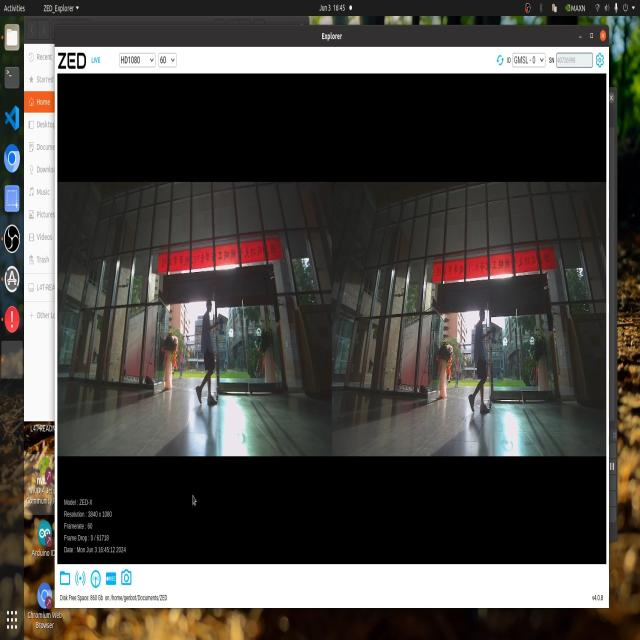blue: (487, 322, 499, 350), (213, 314, 224, 340)
